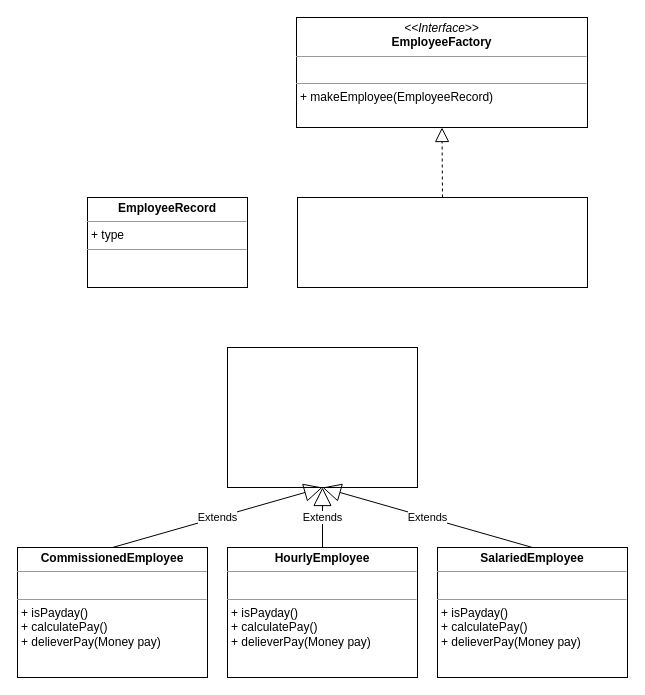
Some shapes in this 645 by 695 pixel diagram are drawn without their labels. Each missing label, with the centre of its shape:
<<abstract>> Employee + isPayday() + calculatePay() + delieverPay(Money pay): (322,417)
EmployeeFactoryImpl + makeEmployee(EmployeeRecord): (442,242)
